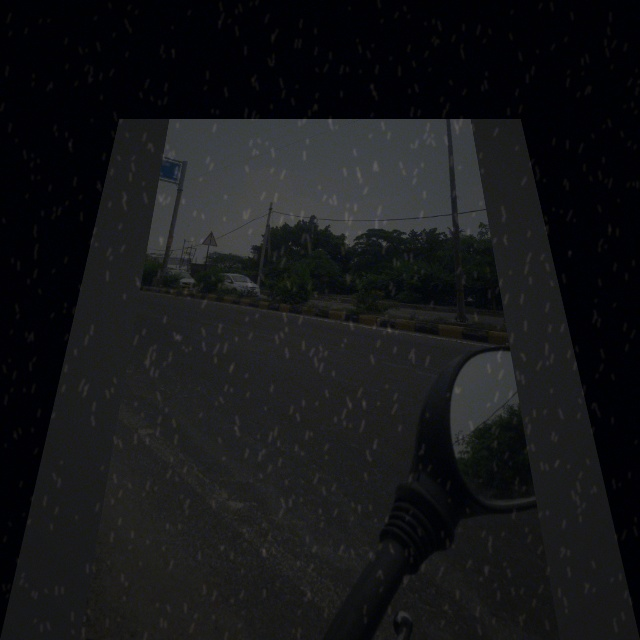Gap_in_Median: (200, 228, 221, 248)
